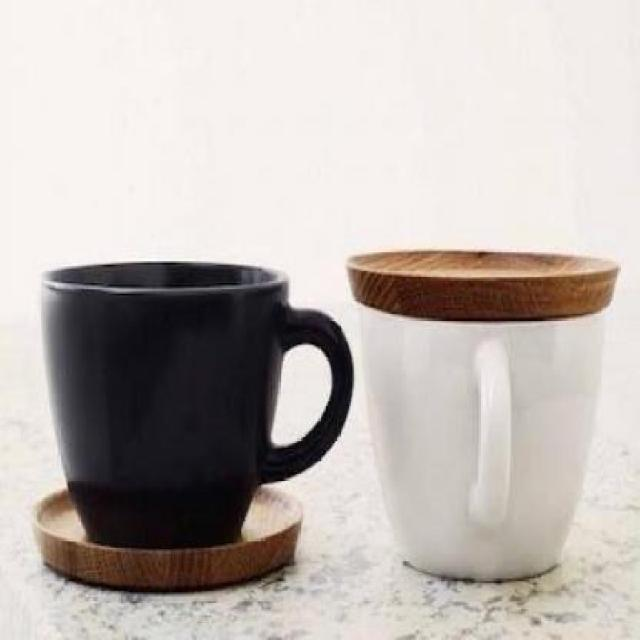glass: (45, 257, 352, 541), (357, 299, 607, 583)
